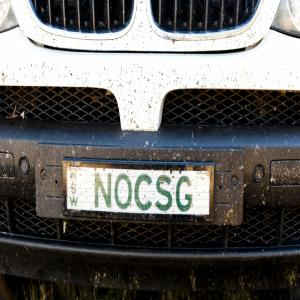Vehicle-registration-plate: (63, 161, 216, 217)
